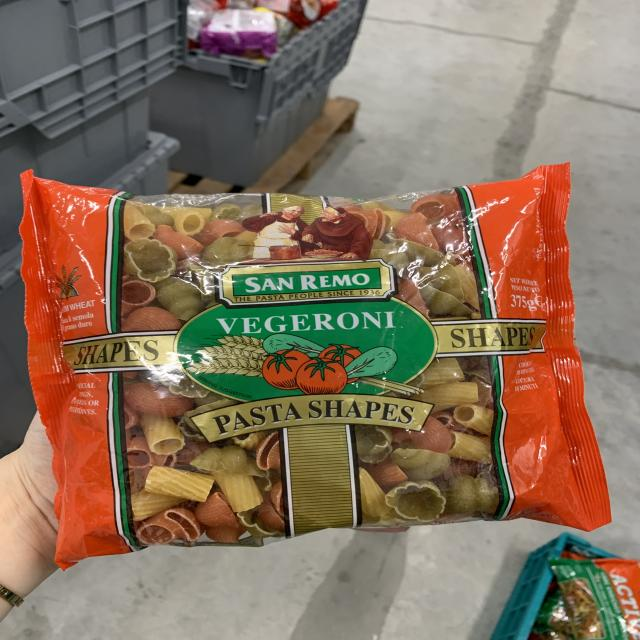object_name: (29, 181, 605, 533)
